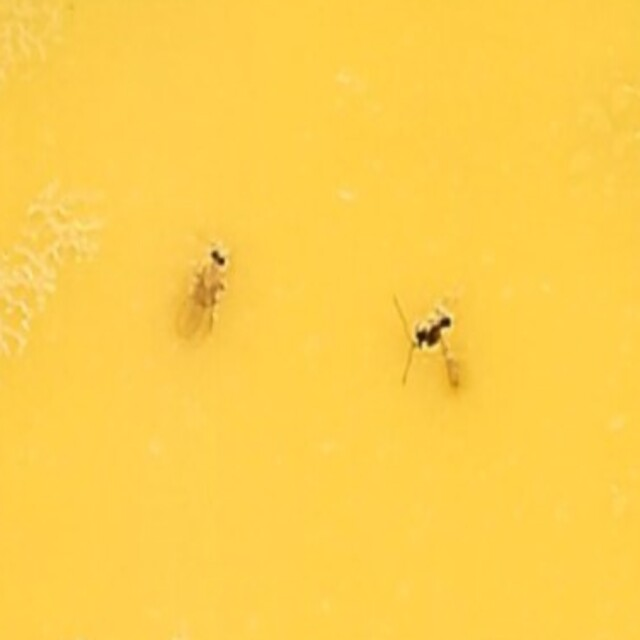Brachycera: (170, 239, 230, 346)
Hymenoptera: (386, 296, 470, 401)
